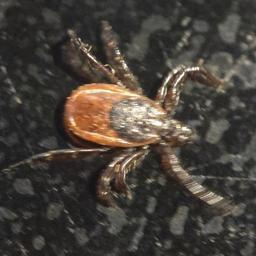Ixodes scapularis: (13, 29, 223, 198)
